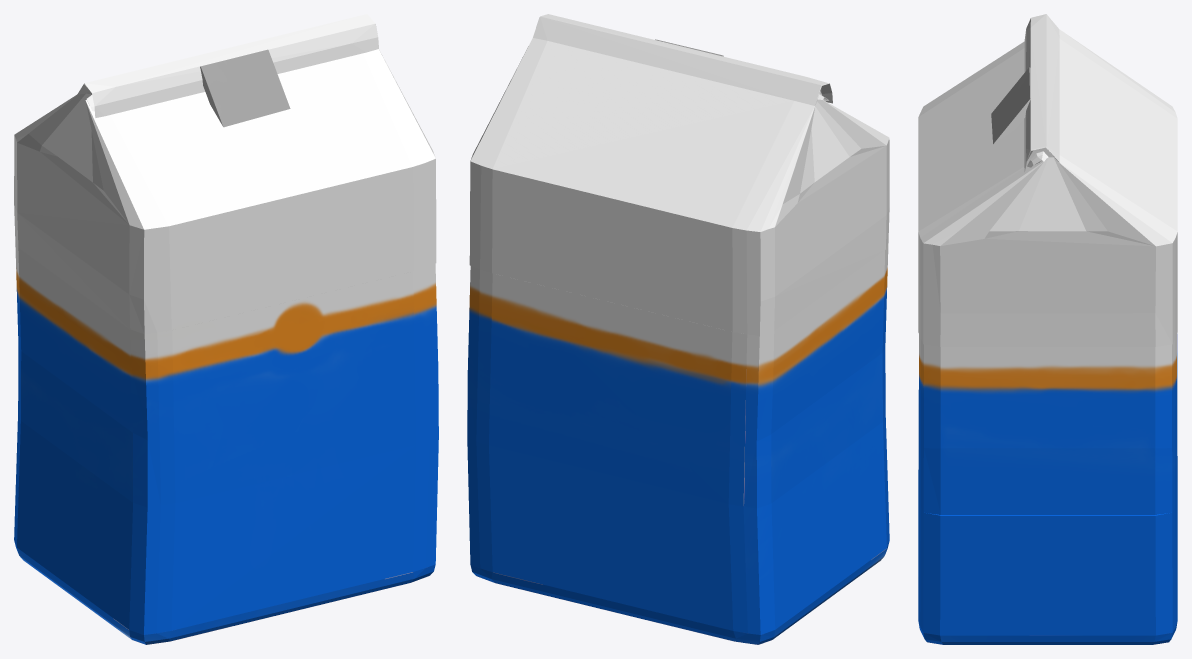
The model's file is Flour.fbx.
3 views of the same model, side by side, from view 1: azimuth 30°, elevation 25°; view 2: azimuth 150°, elevation 25°; view 3: azimuth 270°, elevation 25° (orthographic). The views are drawn at different scales.
Visible parts, largest first — view 1: Flour; view 2: Flour; view 3: Flour.
Part boxes in pixels (x1,y1,x2,y2): Flour: [14, 14, 438, 644]; Flour: [467, 14, 889, 644]; Flour: [918, 14, 1177, 644].
Size of the model in its own units: 202 by 325 by 154.
